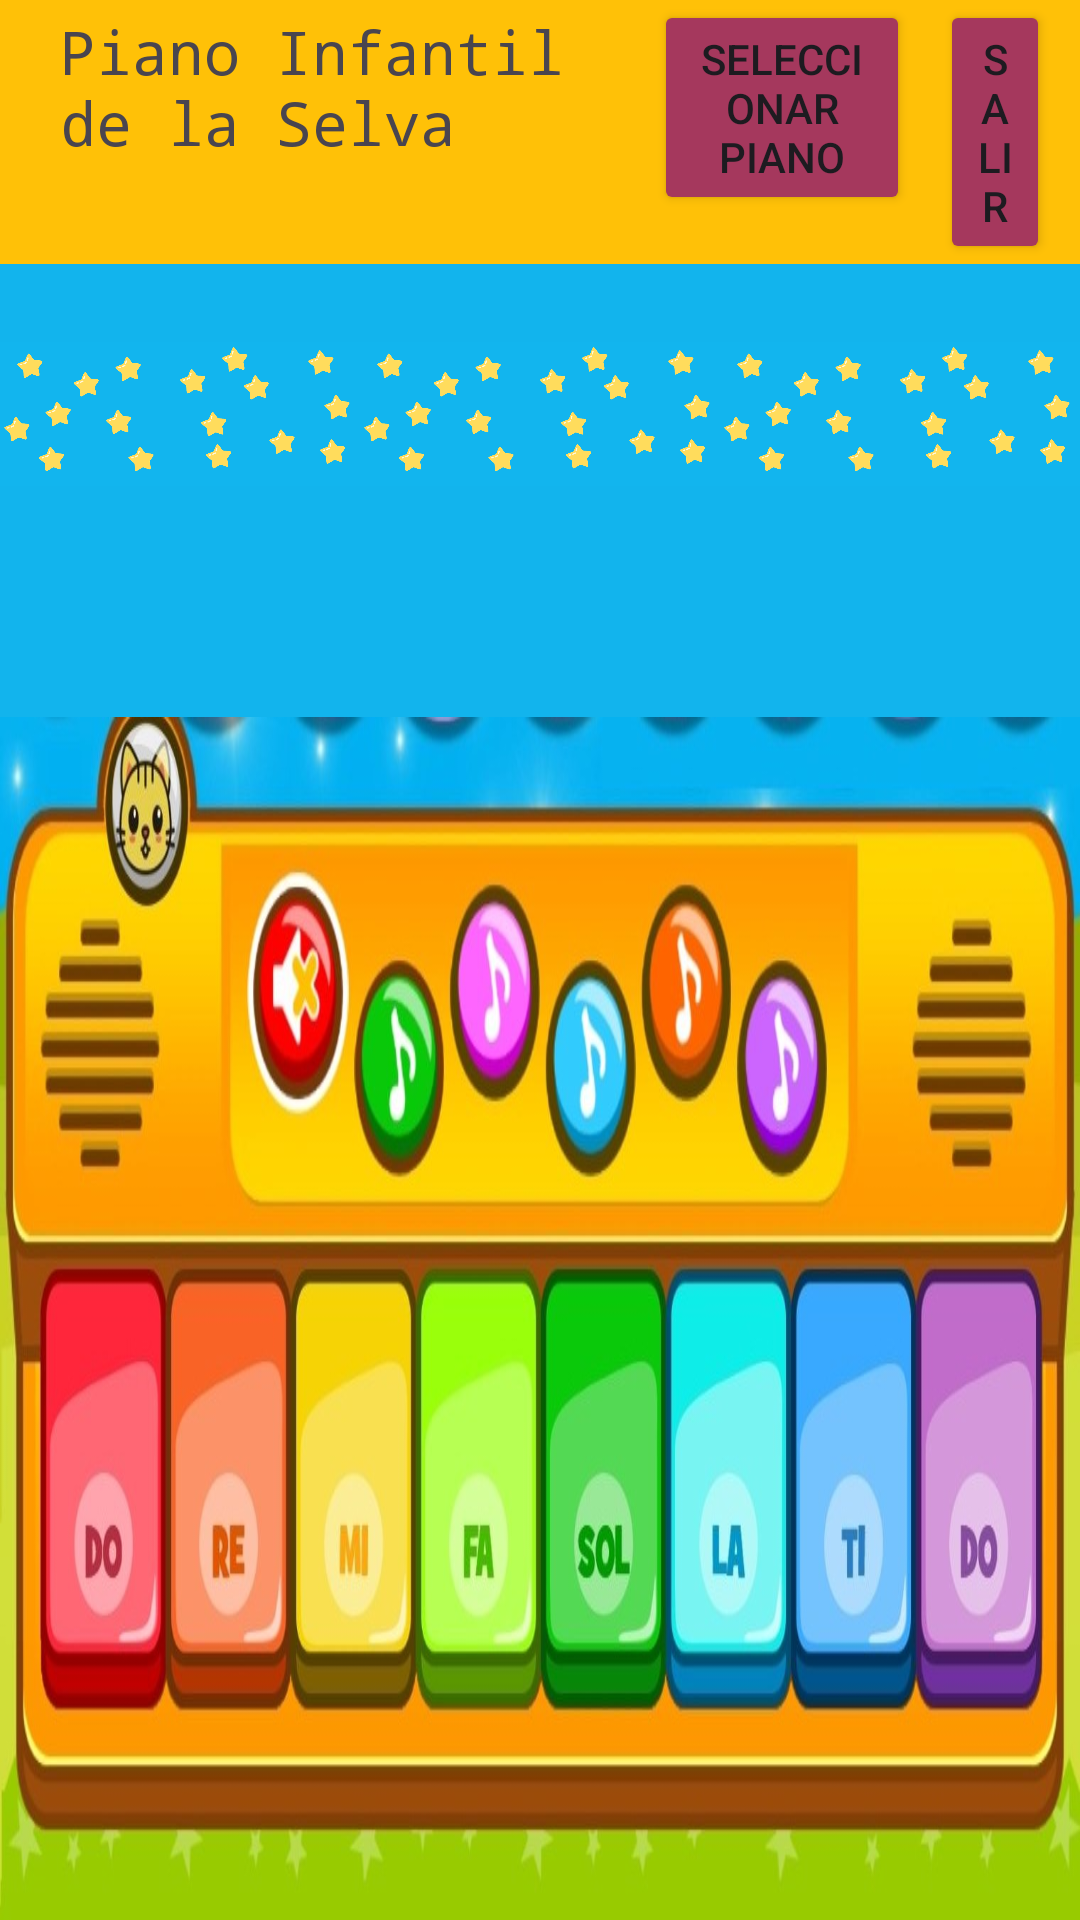

Icons on this 1080px×1920px Android screen, each with the point to tap as (x,y):
estrellas: (177,409), (537,409), (897,409)
